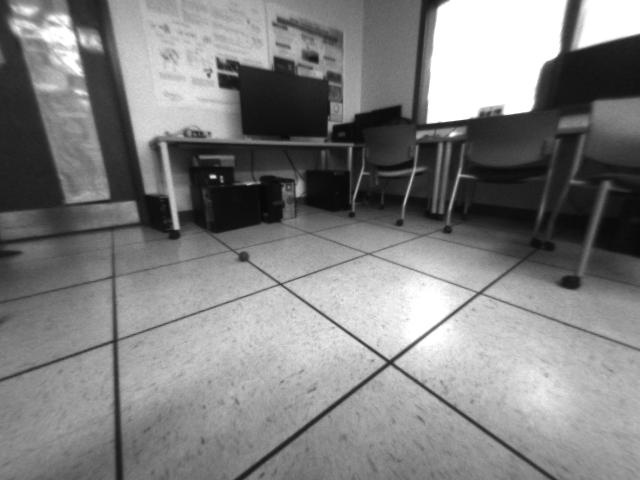dogtoy: (232, 245, 259, 267)
